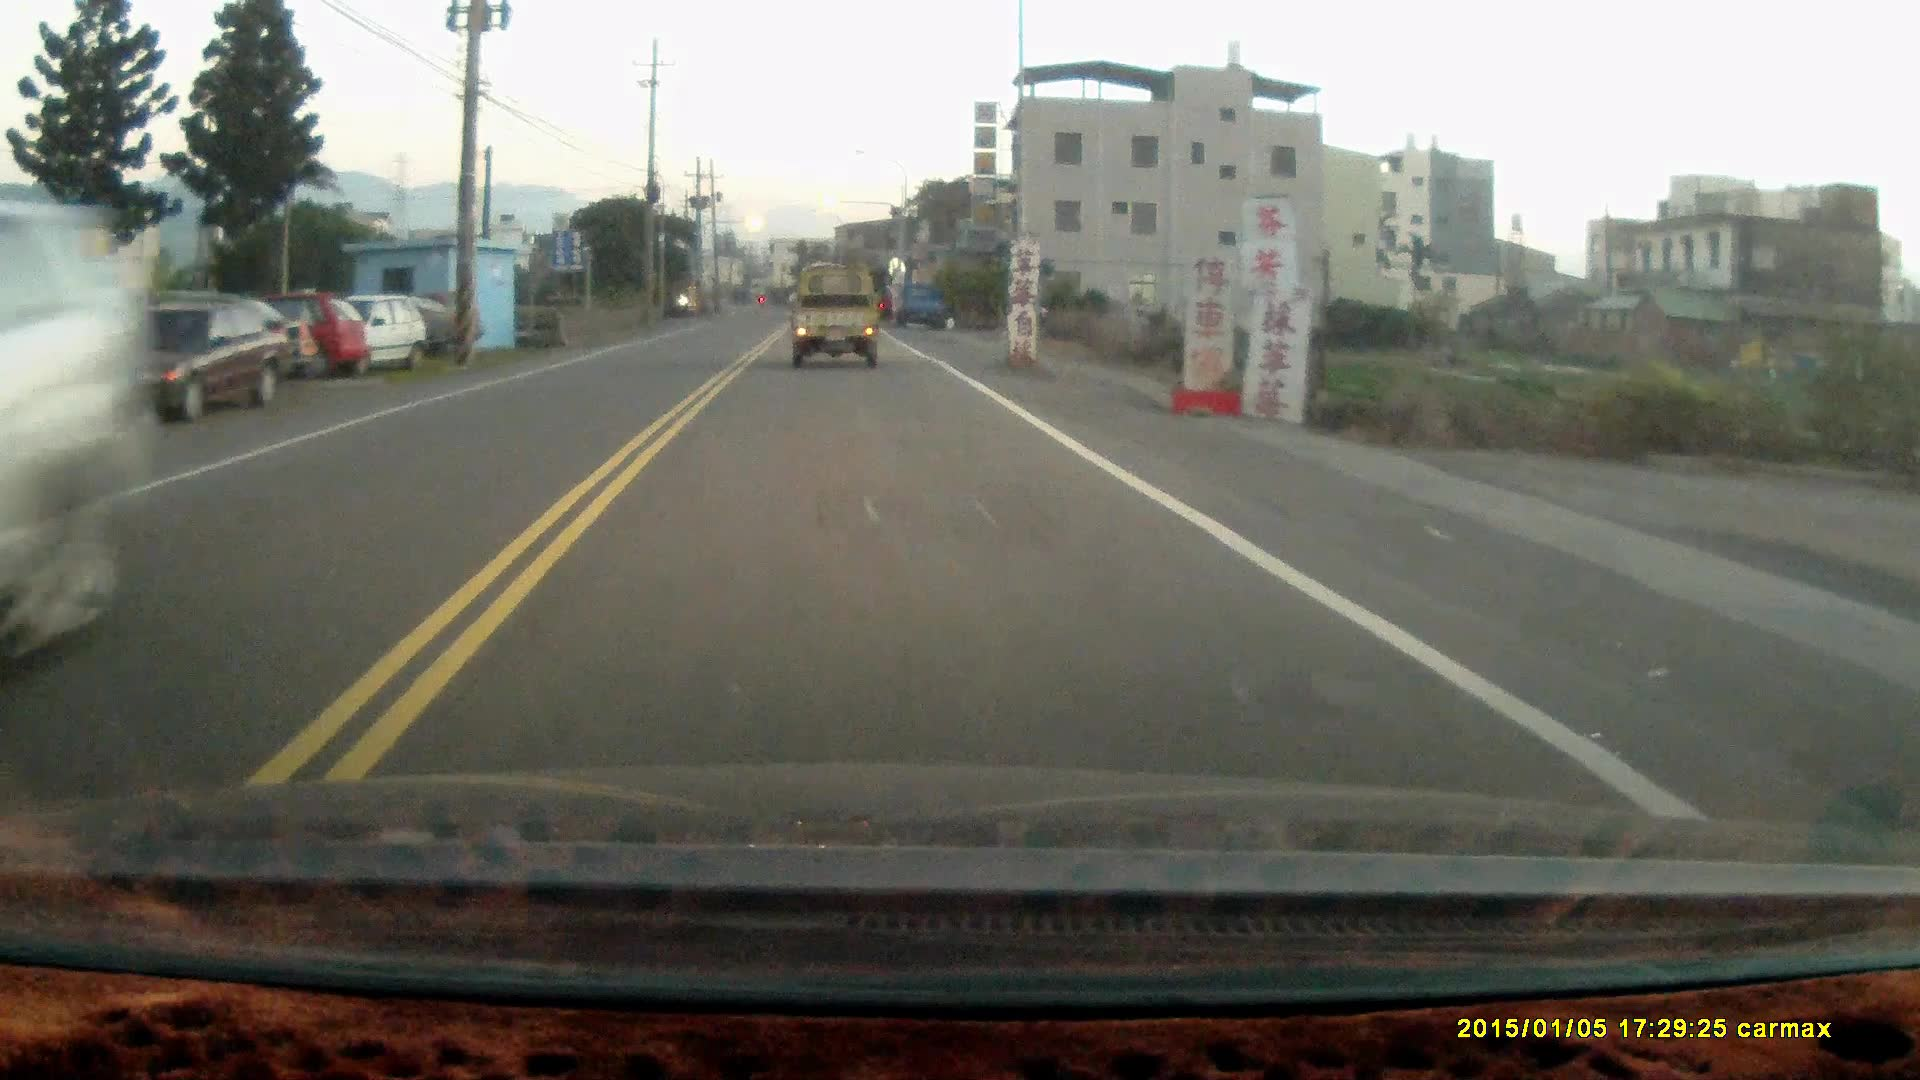vehicle: (1, 199, 153, 673), (51, 290, 305, 430), (790, 270, 885, 373), (318, 295, 429, 375), (899, 284, 953, 334)
